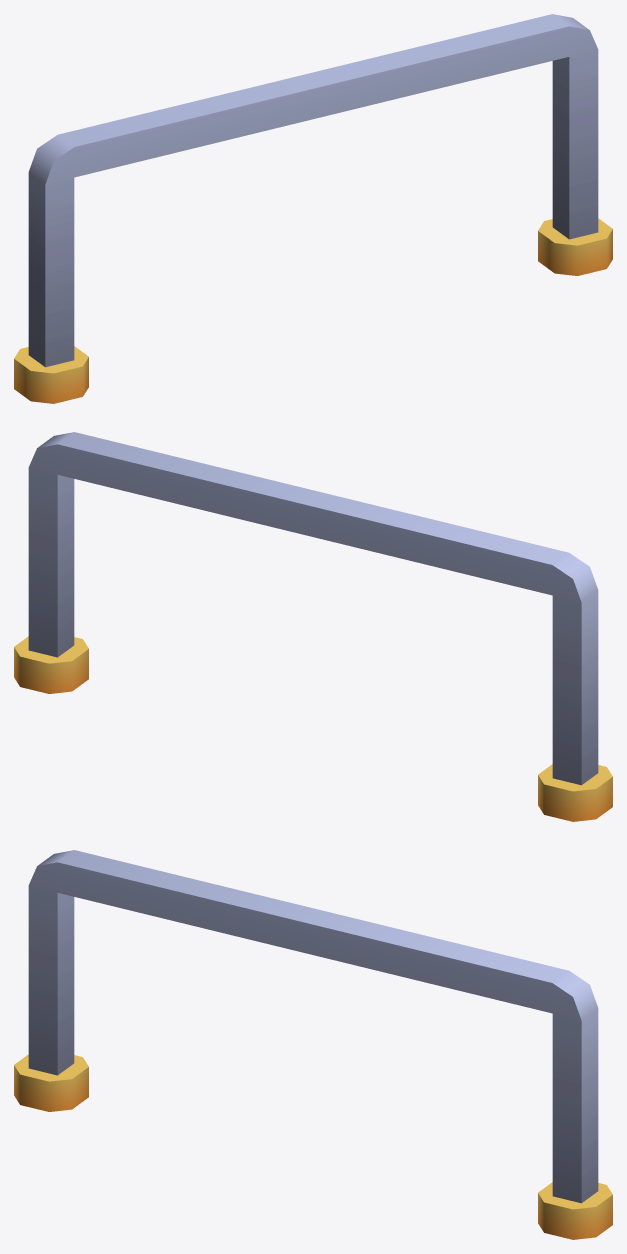
File: station-rail.glb
3 views of the same model, one above another, from view 1: azimuth 30°, elevation 25°; view 2: azimuth 150°, elevation 25°; view 3: azimuth 330°, elevation 25° (orthographic).
Visible parts, largest first — view 1: rail; view 2: rail; view 3: rail.
Boxes of the visible parts, box(x1,y1,x2,y2) form: rail: box(14, 14, 612, 403); rail: box(14, 432, 612, 821); rail: box(14, 850, 612, 1239).
Size of the model in its own units: 1 by 0.3999 by 0.1.
1 material, 1 textured.
